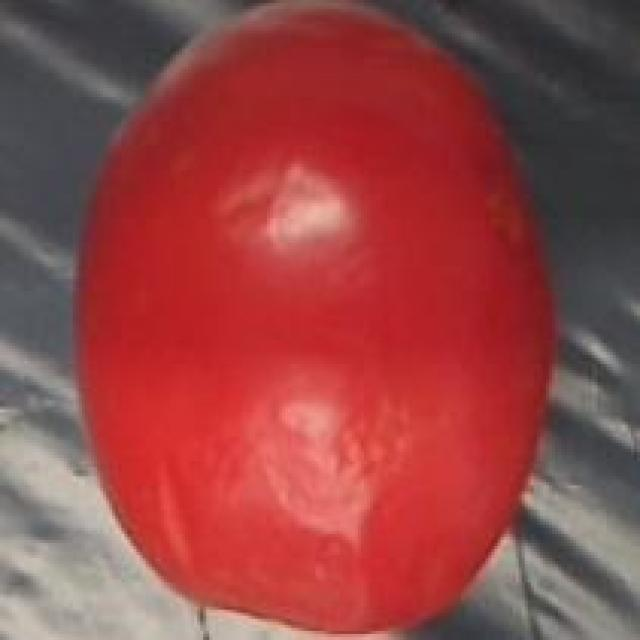ripe tomato: (52, 0, 576, 640)
